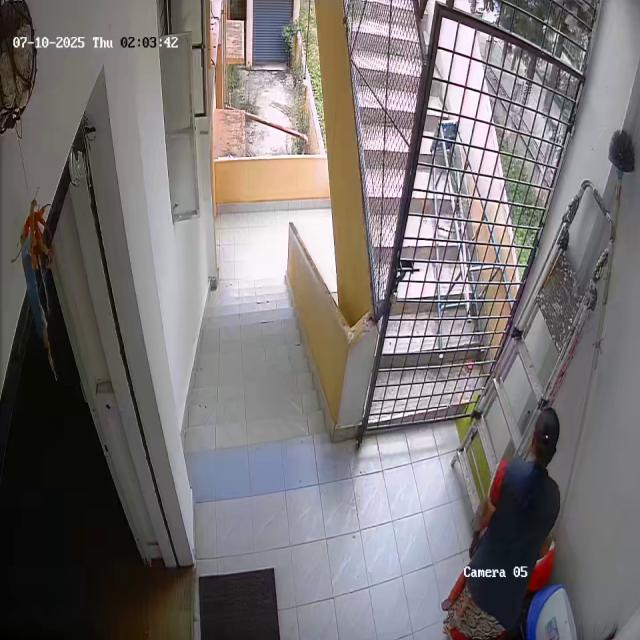person: (448, 401, 575, 640)
